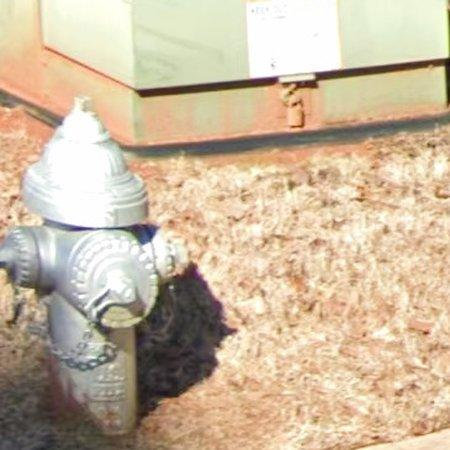a fire hydrant: (0, 97, 189, 435)
